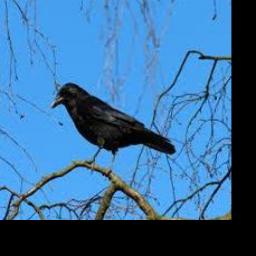Crow: (50, 82, 176, 174)
